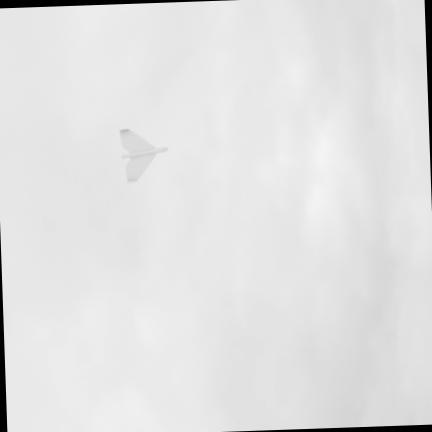Shahed: (120, 129, 167, 181)
